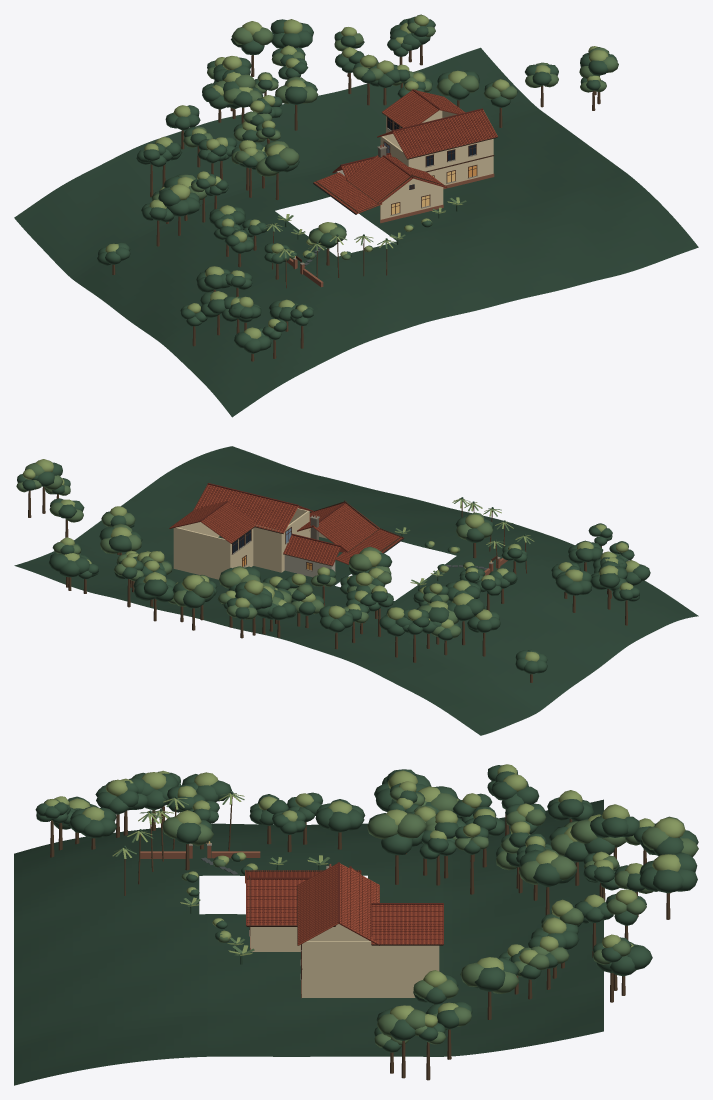
Rendered from cedar-exterior.glb.
3 renders of one model, top to bottom at view 1: azimuth 30°, elevation 25°; view 2: azimuth 150°, elevation 25°; view 3: azimuth 270°, elevation 25°, orthographic. The views are drawn at different scales.
Parts seen in each view (by area): view 1: LAND_terrain, LAND_forest, LID_wing, LID_lounge, GARDEN_trees, LID_veranda; view 2: LAND_terrain, LAND_forest, LID_wing, LID_lounge, GARDEN_trees, LID_kitchen, LID_veranda; view 3: LAND_terrain, LAND_forest, LID_wing, GARDEN_trees, LID_lounge, GARDEN_gate, LID_veranda.
Part boxes in pixels (<box>): LAND_terrain: <box>14,47,698,417</box>; LAND_forest: <box>97,14,618,361</box>; LID_wing: <box>377,89,497,189</box>; LID_lounge: <box>346,144,447,223</box>; GARDEN_trees: <box>264,197,466,288</box>; LID_veranda: <box>313,172,382,214</box>; LAND_terrain: <box>14,446,698,735</box>; LAND_forest: <box>16,459,650,682</box>; LID_wing: <box>169,483,313,579</box>; LID_lounge: <box>297,500,379,552</box>; GARDEN_trees: <box>395,497,534,590</box>; LID_kitchen: <box>283,533,347,577</box>; LID_veranda: <box>336,528,404,564</box>; LAND_terrain: <box>14,799,603,1085</box>; LAND_forest: <box>35,764,698,1080</box>; LID_wing: <box>297,862,443,998</box>; GARDEN_trees: <box>112,791,329,964</box>; LID_lounge: <box>246,864,336,951</box>; GARDEN_gate: <box>140,841,260,858</box>; LID_veranda: <box>245,870,361,883</box>.
Bounding box in the file's own units: 119 × 33.01 × 98.71.
